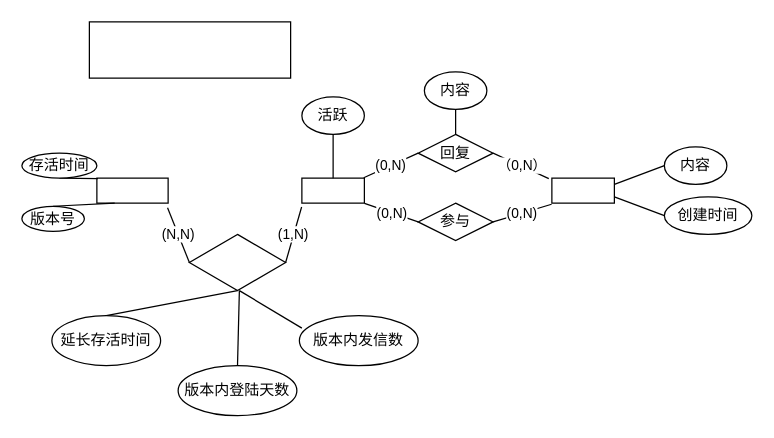
The diagram is 774 pixels wide and 438 high, and some of its shapes have lost their labels. The shapes that lost their labels are listed below. From the top down, each one's box as (x1, y1, x2, y2) in pixels, then its label:
(88, 21, 291, 78): 为便于理解此ER图省略仅为满足数据库需要生成的ID
(96, 177, 168, 203): 版本信息
(301, 177, 364, 203): 用户
(551, 177, 614, 203): 信件
(188, 233, 286, 291): 用户信息
